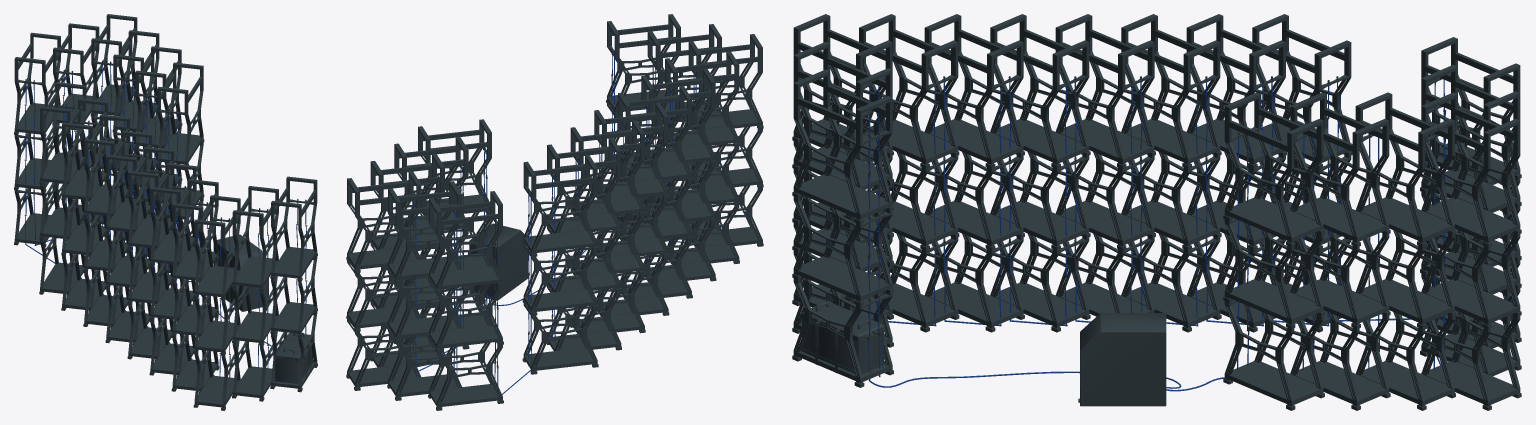
File: UninterruptiblePowerSupply.FBX
3 views of the same model, side by side, from view 1: azimuth 30°, elevation 25°; view 2: azimuth 150°, elevation 25°; view 3: azimuth 270°, elevation 25° (orthographic). The views are drawn at different scales.
Parts seen in each view (by area): view 1: AccumulatorBox1_003, AccumulatorBox1_002, AccumulatorBox1_001, AccumulatorBox1_004, AccumulatorBox1_017, AccumulatorBox1_009, AccumulatorBox1_013, AccumulatorBox1_012, AccumulatorBox1_014, AccumulatorBox1_010, AccumulatorBox1_011, AccumulatorBox1_020 (+6 smaller); view 2: AccumulatorBox1_014, AccumulatorBox1_017, AccumulatorBox1_015, AccumulatorBox1_016, AccumulatorBox1_013, AccumulatorBox1_003, AccumulatorBox1_012, AccumulatorBox1_011, AccumulatorBox1_009, AccumulatorBox1_004, AccumulatorBox1_010, AccumulatorBox1_018 (+5 smaller); view 3: AccumulatorBox1_020, AccumulatorBox1_001, AccumulatorBox1_010, AccumulatorBox1_012, AccumulatorBox1_009, AccumulatorBox1_019, AccumulatorBox1_018, AccumulatorBox1_015, AccumulatorBox1_011, AccumulatorBox1_004, AccumulatorBox1_013, AccumulatorBox1_016 (+6 smaller).
Part boxes in pixels (<box>): AccumulatorBox1_003: <box>193,195,240,410</box>; AccumulatorBox1_002: <box>232,186,278,401</box>; AccumulatorBox1_001: <box>270,176,317,392</box>; AccumulatorBox1_004: <box>171,179,219,393</box>; AccumulatorBox1_017: <box>14,32,60,246</box>; AccumulatorBox1_009: <box>149,163,196,377</box>; AccumulatorBox1_013: <box>61,98,108,312</box>; AccumulatorBox1_012: <box>83,114,130,329</box>; AccumulatorBox1_014: <box>39,82,85,296</box>; AccumulatorBox1_010: <box>127,146,174,361</box>; AccumulatorBox1_011: <box>105,130,152,345</box>; AccumulatorBox1_020: <box>156,62,204,273</box>; AccumulatorBox1_014: <box>522,155,598,374</box>; AccumulatorBox1_017: <box>428,191,503,410</box>; AccumulatorBox1_015: <box>346,171,421,390</box>; AccumulatorBox1_016: <box>387,181,462,400</box>; AccumulatorBox1_013: <box>546,137,621,351</box>; AccumulatorBox1_003: <box>688,34,763,247</box>; AccumulatorBox1_012: <box>570,120,645,333</box>; AccumulatorBox1_011: <box>594,103,669,316</box>; AccumulatorBox1_009: <box>641,68,716,281</box>; AccumulatorBox1_004: <box>665,51,739,264</box>; AccumulatorBox1_010: <box>618,85,692,299</box>; AccumulatorBox1_018: <box>370,154,444,367</box>; AccumulatorBox1_020: <box>1223,92,1324,410</box>; AccumulatorBox1_001: <box>792,69,893,387</box>; AccumulatorBox1_010: <box>990,14,1090,332</box>; AccumulatorBox1_012: <box>1121,14,1221,332</box>; AccumulatorBox1_009: <box>924,14,1024,332</box>; AccumulatorBox1_019: <box>1290,92,1390,410</box>; AccumulatorBox1_018: <box>1355,92,1455,410</box>; AccumulatorBox1_015: <box>1421,92,1521,410</box>; AccumulatorBox1_011: <box>1055,14,1155,316</box>; AccumulatorBox1_004: <box>859,14,959,332</box>; AccumulatorBox1_013: <box>1186,14,1286,332</box>; AccumulatorBox1_016: <box>1420,64,1521,376</box>.
Size of the model in its own units: 228 by 242 by 579.
